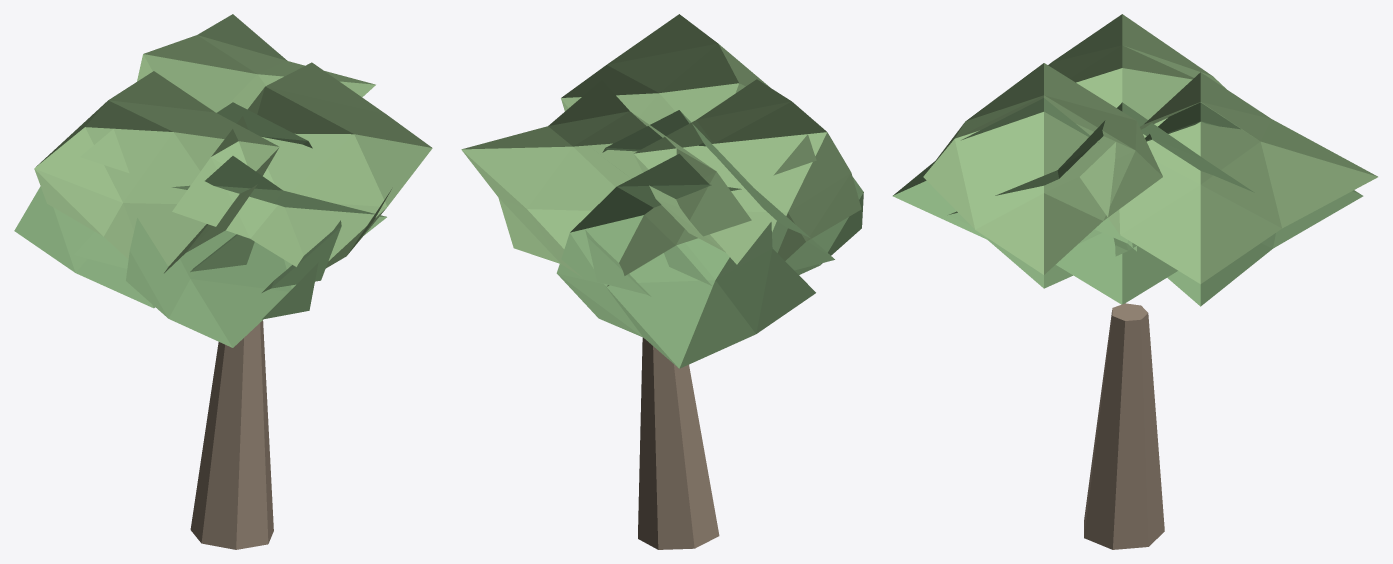
Rendered from broadleaf_v20.glb.
3 renders of one model, left to right at view 1: azimuth 30°, elevation 25°; view 2: azimuth 150°, elevation 25°; view 3: azimuth 270°, elevation 25°, orthographic.
Visible parts, largest first — view 1: lod0; view 2: lod0; view 3: lod0.
Boxes of the visible parts, box(x1,y1,x2,y2) form: lod0: box(14, 14, 432, 549); lod0: box(461, 14, 863, 549); lod0: box(892, 14, 1377, 549).
Size of what is drawn, in the model's own units: 3.57 by 4.57 by 4.12.
